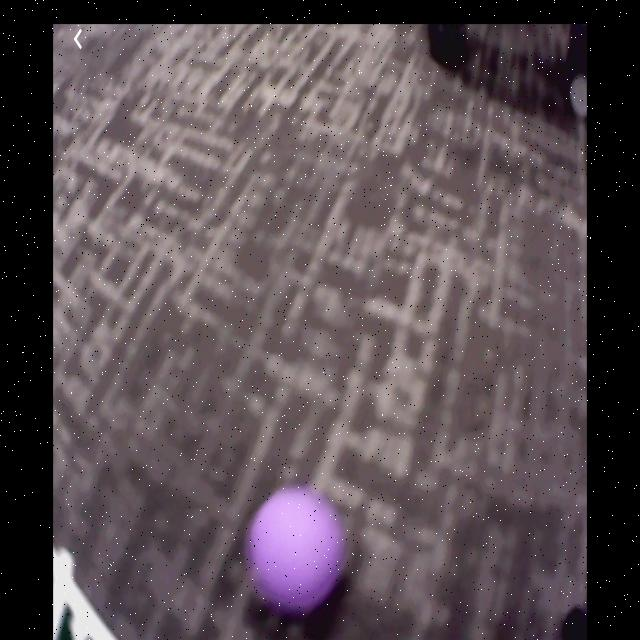ball: (247, 488, 340, 607)
